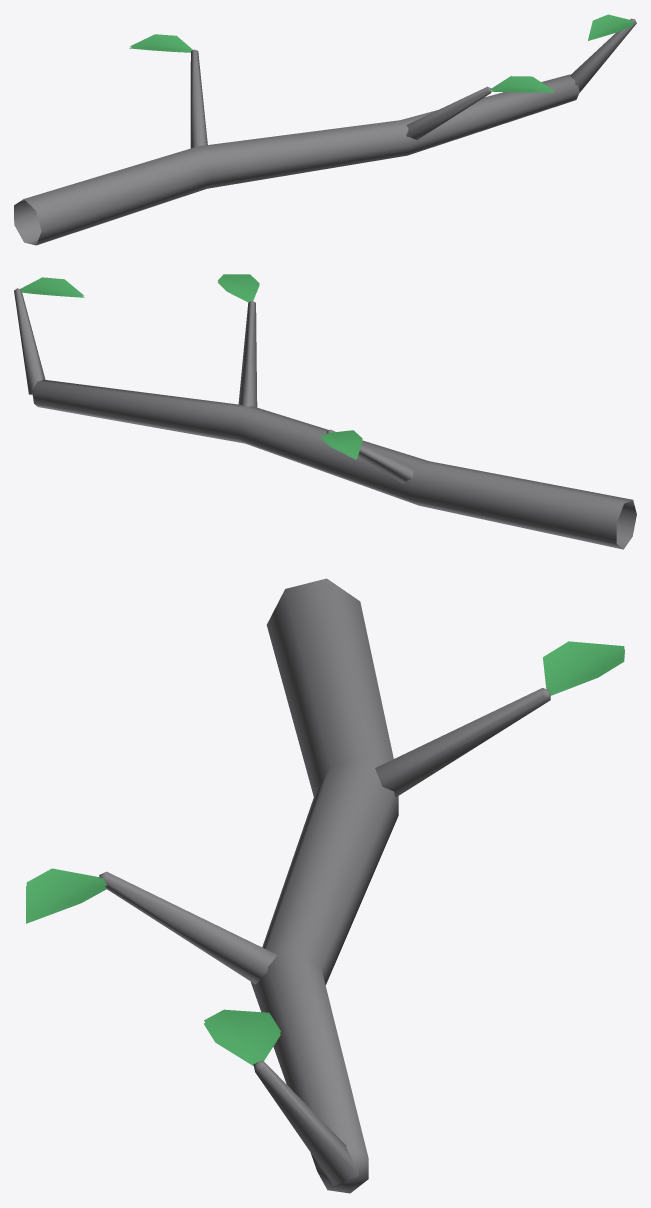
File: ing_ash_wood.gltf
3 renders of one model, top to bottom at view 1: azimuth 30°, elevation 25°; view 2: azimuth 150°, elevation 25°; view 3: azimuth 270°, elevation 25°, orthographic. The views are drawn at different scales.
Visible parts, largest first — view 1: ing_ash_wood; view 2: ing_ash_wood; view 3: ing_ash_wood.
Part boxes in pixels (x1,y1,x2,y2): ing_ash_wood: (14,14,636,245); ing_ash_wood: (14,274,636,549); ing_ash_wood: (26,578,624,1193).
Size of what is drawn, in the model's own units: 0.9743 by 0.1623 by 0.4235.
